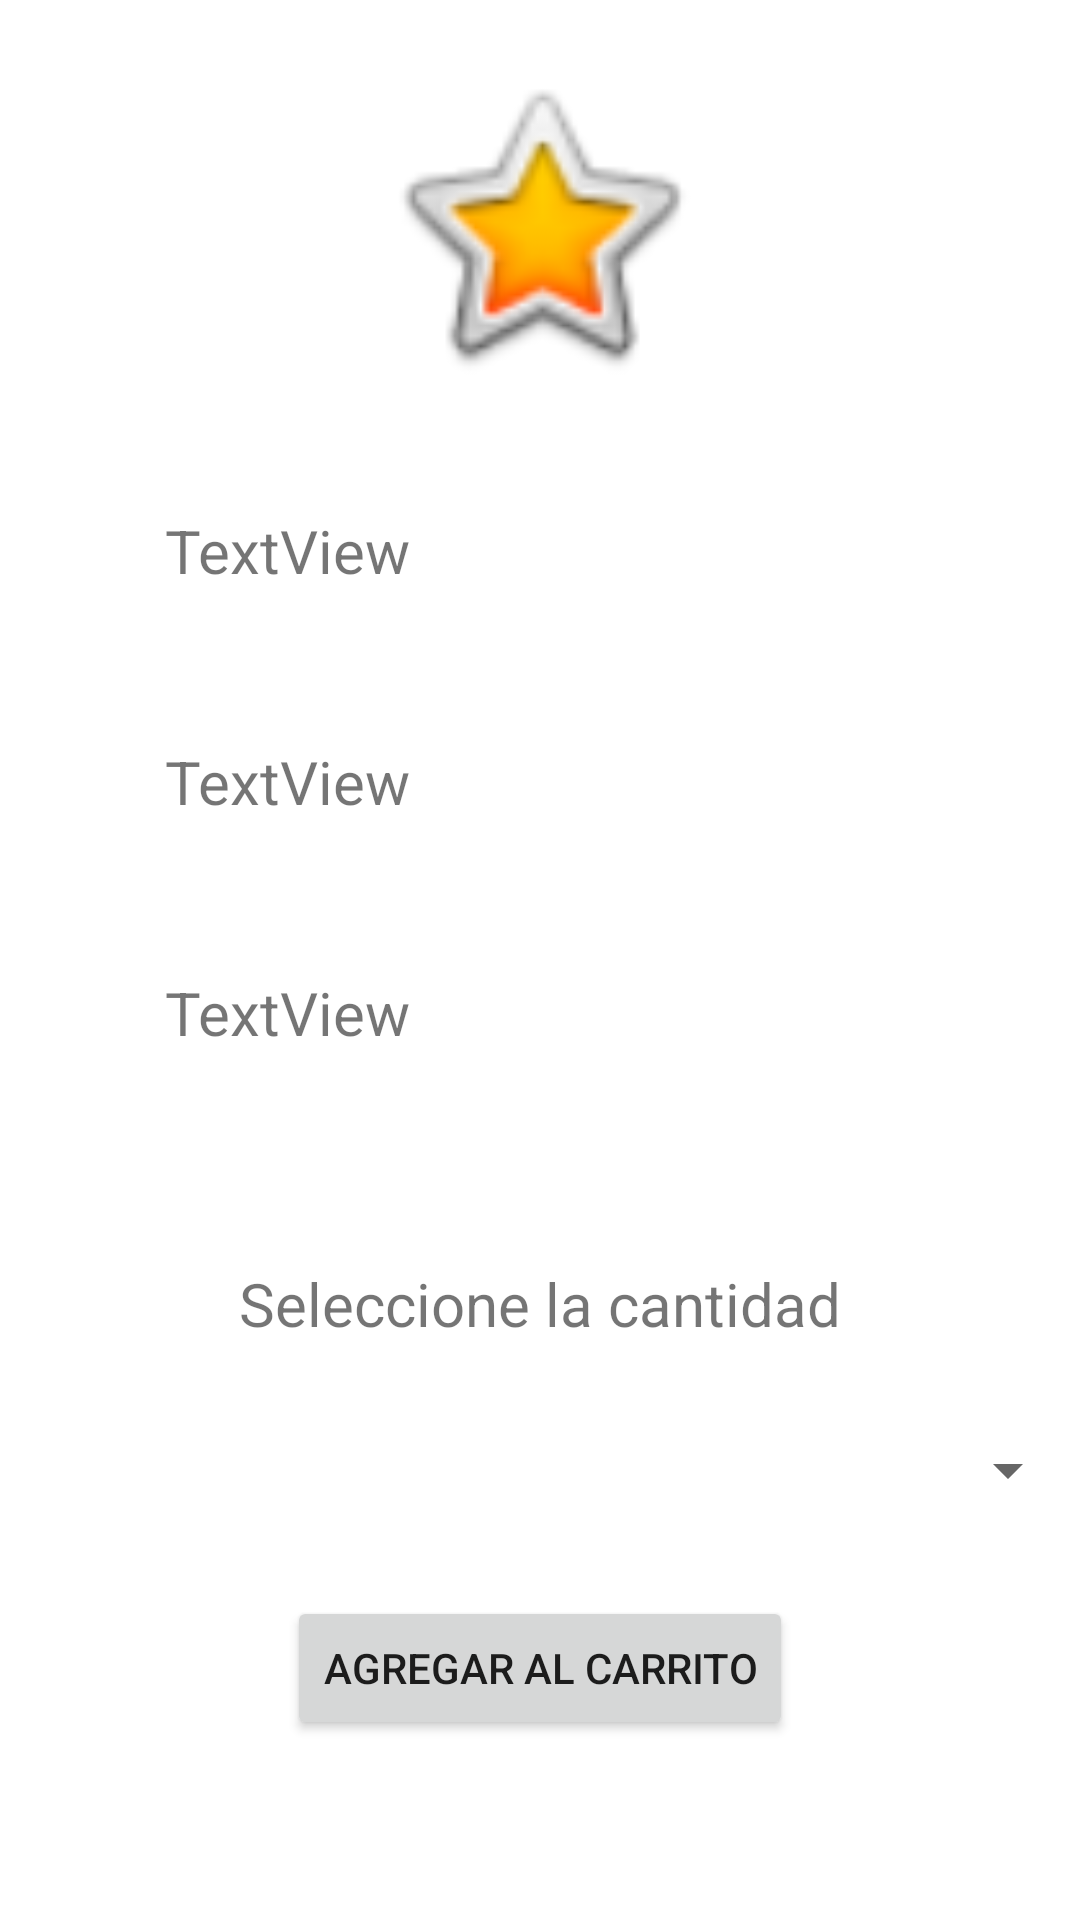

Named icons in this screenshot (1080px×1920px) and their bounding boxes, (x1,y1,x2,y2):
star on: (405,93,681,362)
